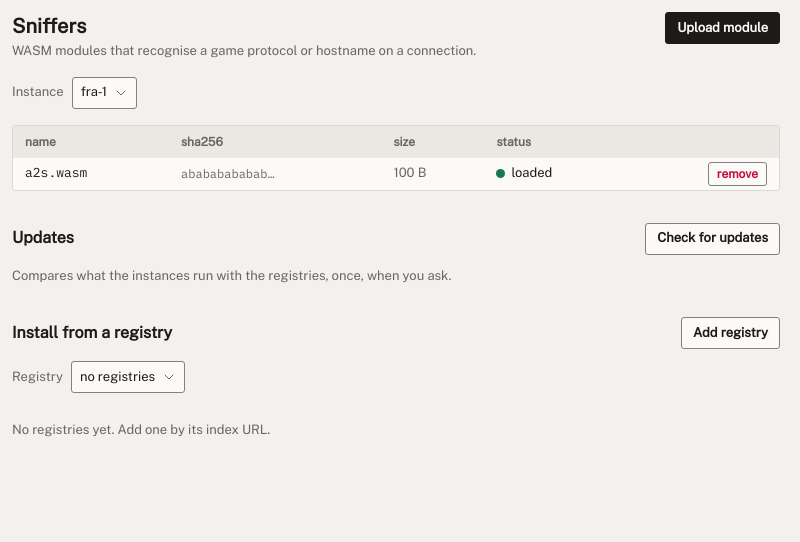
Test: SniffersPage updates and rollback › gives an unknown build no update button
What coordinates should you click on to do the following:
click the button "Check for updates"
I would click on:
 (713, 239)
Its box is [645,223,780,255].
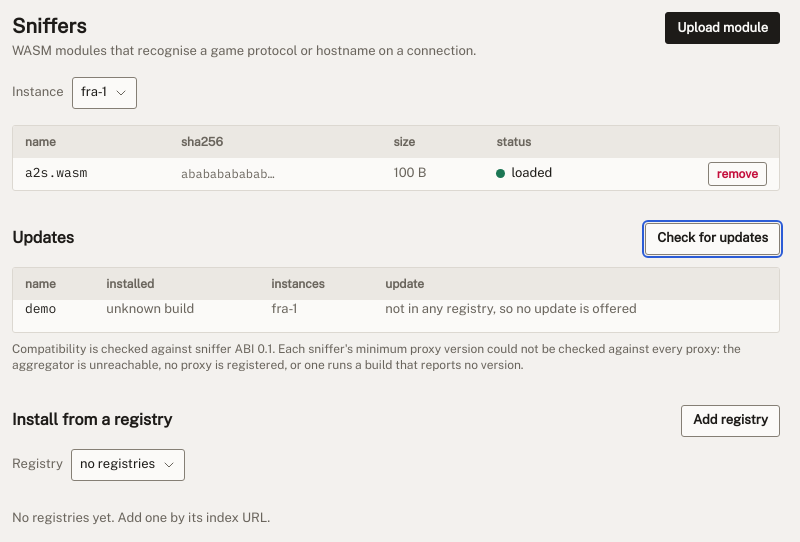
Now the element "Updates" shows "unknown build", box [106,301,194,316]
